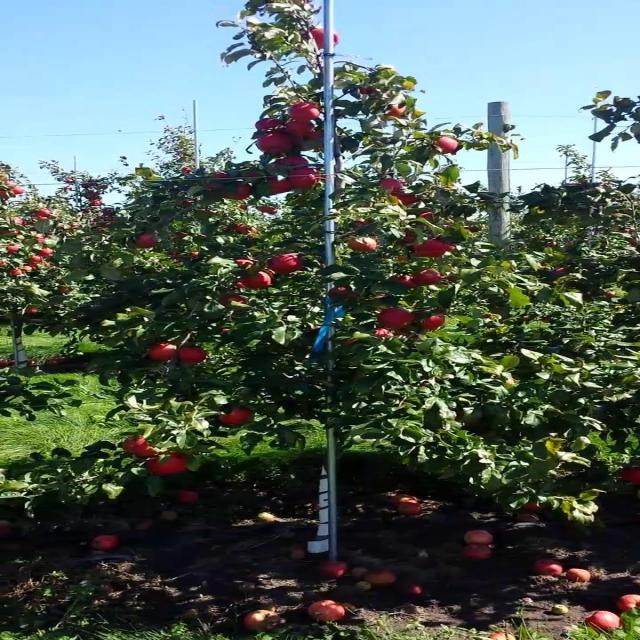apple: (147, 452, 187, 476), (413, 239, 456, 258), (256, 132, 293, 154), (378, 308, 416, 328), (122, 436, 156, 457), (289, 166, 320, 189), (267, 254, 302, 274), (414, 269, 454, 285), (218, 408, 253, 426), (286, 102, 320, 120), (412, 268, 446, 286), (308, 28, 338, 48), (238, 271, 271, 289), (147, 342, 178, 361), (296, 129, 324, 150), (176, 345, 207, 363), (433, 135, 460, 154), (282, 119, 314, 135), (327, 285, 358, 301), (347, 236, 378, 251), (222, 183, 251, 199), (273, 155, 307, 168), (418, 314, 445, 329), (378, 178, 403, 194), (134, 232, 158, 248), (266, 176, 290, 192), (298, 128, 322, 144), (390, 274, 417, 288), (218, 294, 248, 306), (618, 467, 638, 483), (256, 118, 282, 130), (394, 193, 418, 205), (385, 104, 405, 118), (228, 223, 252, 234), (522, 500, 546, 511), (356, 85, 377, 95), (372, 327, 393, 337), (350, 219, 371, 229), (401, 230, 417, 243), (235, 258, 255, 268), (340, 338, 358, 346), (551, 266, 567, 274), (418, 210, 433, 218), (241, 170, 258, 176)
